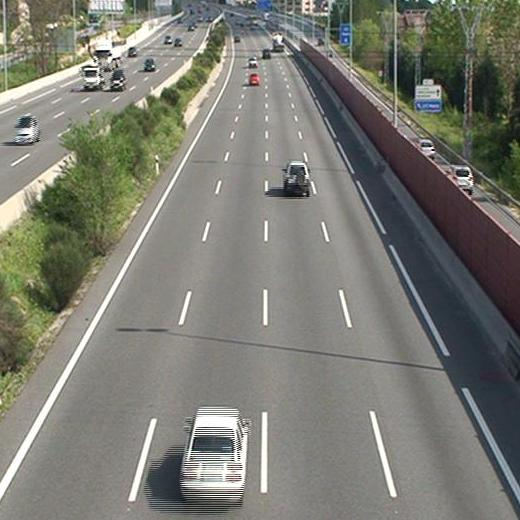car: (180, 408, 247, 504), (282, 161, 310, 195), (248, 56, 259, 67), (247, 73, 258, 84)
truck: (271, 32, 284, 53)
